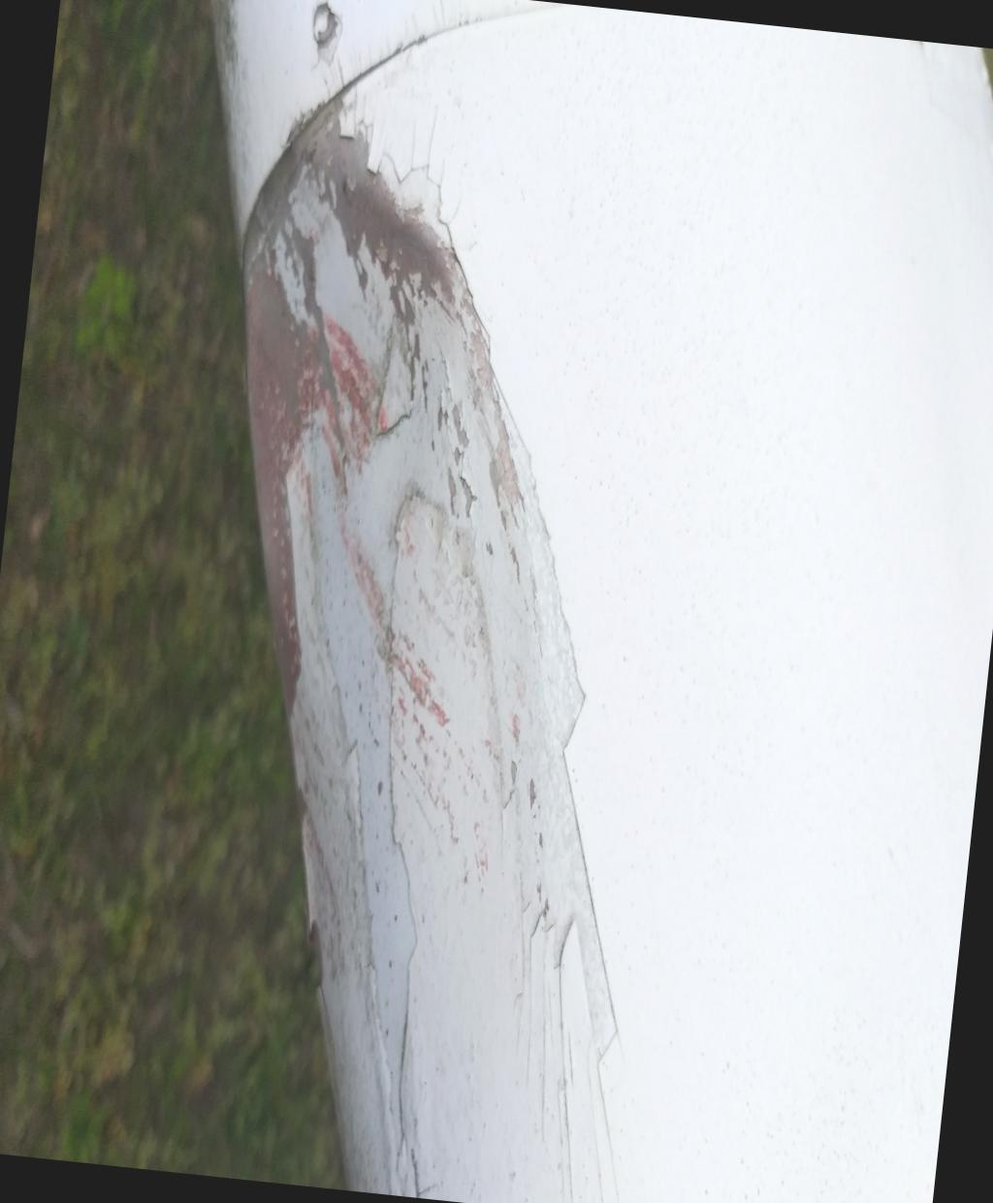corrosion: (399, 939, 804, 1203)
